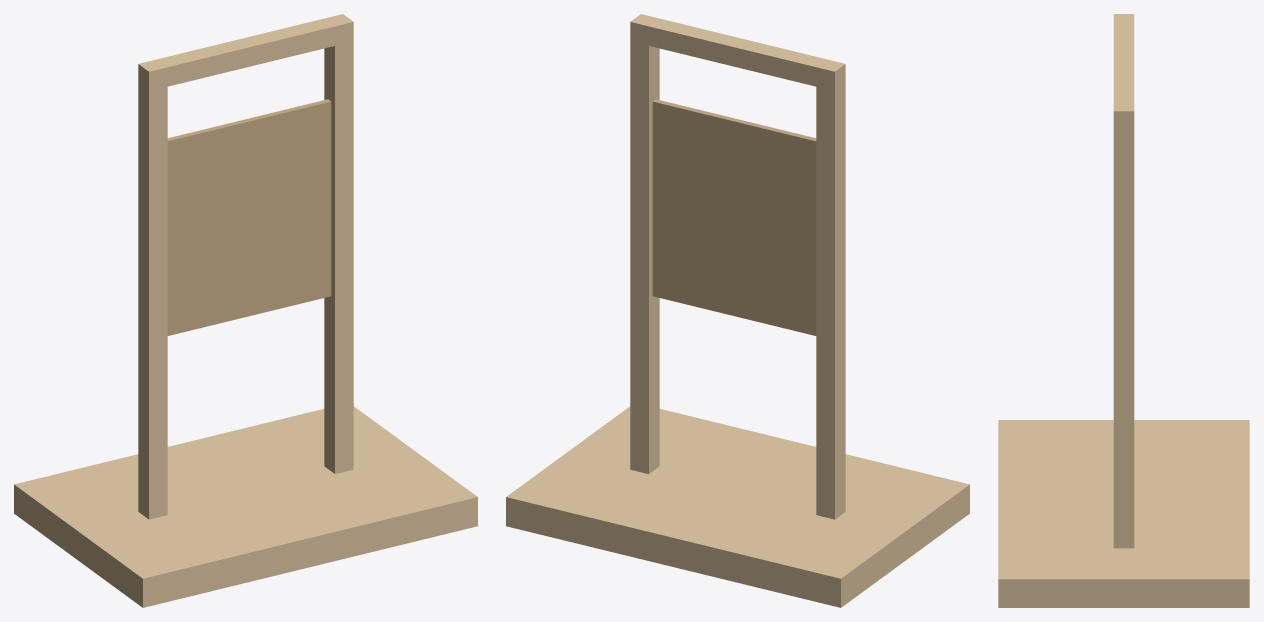
Rendered from saloon_doors.glb.
3 views of the same model, side by side, from view 1: azimuth 30°, elevation 25°; view 2: azimuth 150°, elevation 25°; view 3: azimuth 270°, elevation 25° (orthographic). The views are drawn at different scales.
Visible parts, largest first — view 1: boardwalk, door_r, door_l, post_l, post_r, header; view 2: boardwalk, door_r, door_l, post_l, post_r, header; view 3: boardwalk, post_r, header.
Boxes of the visible parts, x1=… form: boardwalk: x1=14, y1=406, x2=477, y2=607; door_r: x1=245, y1=99, x2=331, y2=316; door_l: x1=167, y1=119, x2=247, y2=335; post_l: x1=138, y1=83, x2=167, y2=519; post_r: x1=324, y1=41, x2=353, y2=473; header: x1=138, y1=14, x2=353, y2=90; boardwalk: x1=506, y1=406, x2=969, y2=607; door_r: x1=652, y1=99, x2=738, y2=316; door_l: x1=736, y1=119, x2=816, y2=335; post_l: x1=816, y1=83, x2=845, y2=519; post_r: x1=630, y1=41, x2=659, y2=473; header: x1=630, y1=14, x2=845, y2=90; boardwalk: x1=998, y1=420, x2=1249, y2=607; post_r: x1=1113, y1=130, x2=1134, y2=548; header: x1=1113, y1=14, x2=1134, y2=130.
Size of the model in its own units: 1.8 by 2.45 by 1.2.
